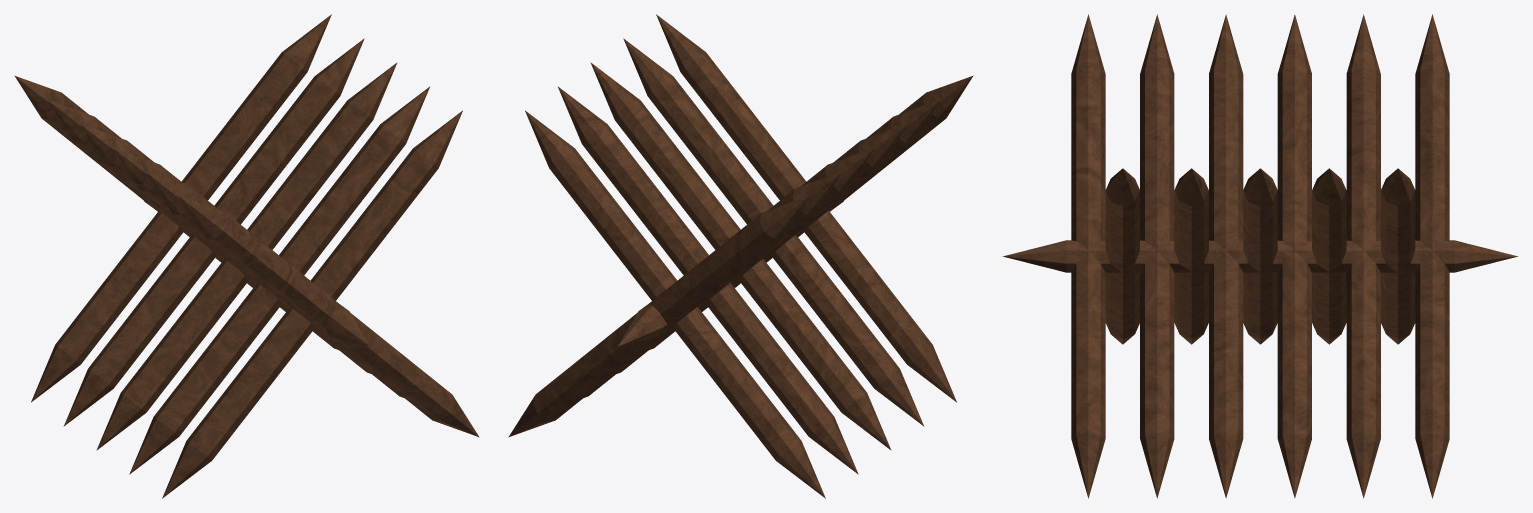
The model's file is Barricade.fbx.
The picture shows the model from 3 angles, left to right: view 1: azimuth 30°, elevation 25°; view 2: azimuth 150°, elevation 25°; view 3: azimuth 270°, elevation 25°; orthographic projection. The views are drawn at different scales.
Visible parts, largest first — view 1: Barricade; view 2: Barricade; view 3: Barricade.
Boxes of the visible parts, box(x1,y1,x2,y2) form: Barricade: box(14, 14, 479, 498); Barricade: box(508, 14, 973, 498); Barricade: box(1002, 14, 1518, 498).
Size of the model in its own units: 106 by 106 by 150.
1 material, 1 textured.
